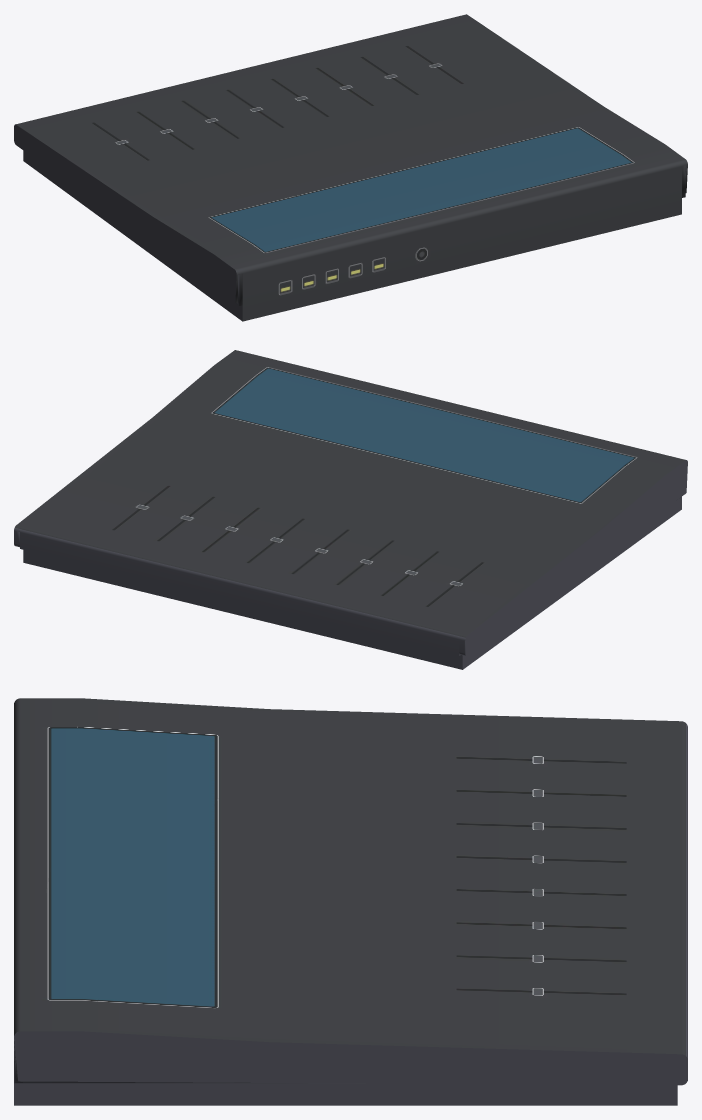
The model's file is axia-pulsar.glb.
3 views of the same model, one above another, from view 1: azimuth 30°, elevation 25°; view 2: azimuth 150°, elevation 25°; view 3: azimuth 270°, elevation 25° (orthographic). The views are drawn at different scales.
Parts seen in each view (by area): view 1: axia-pulsar-body; view 2: axia-pulsar-body; view 3: axia-pulsar-body.
Boxes of the visible parts, bbox=[...] form: axia-pulsar-body: bbox=[14, 14, 687, 321]; axia-pulsar-body: bbox=[14, 350, 687, 669]; axia-pulsar-body: bbox=[14, 698, 687, 1105].
Bounding box in the file's own units: 0.463 × 0.055 × 0.396.
Materials: 1 (1 with a texture image).
